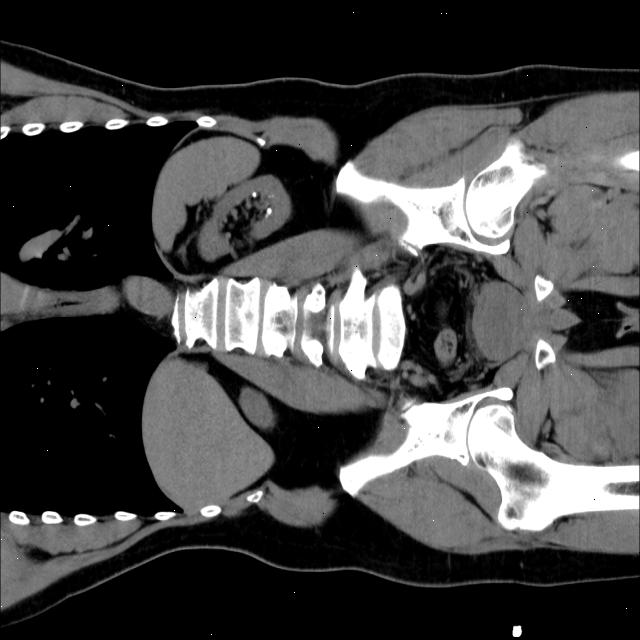kidneystone: (250, 190, 259, 200), (266, 206, 272, 218)
